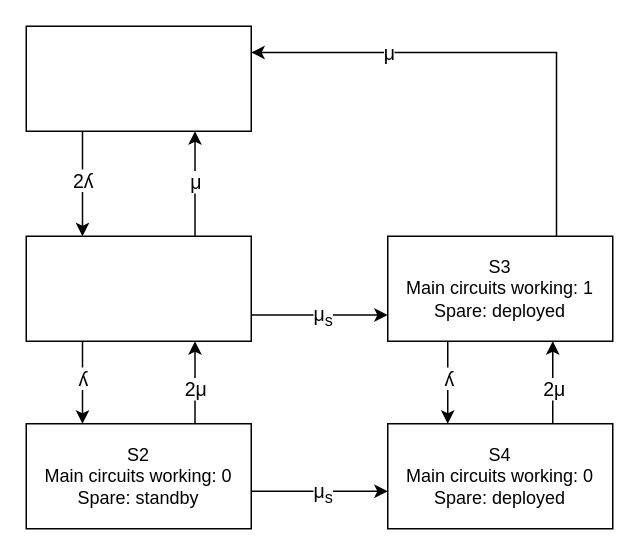
The diagram is 639 pixels wide and 555 high, and some of its shapes have lost their labels. Each missing label, with the centre of its shape:
"S0 Main circuits working: 2 Spare: standby" goes at (138,78).
"S1 Main circuits working: 1 Spare: standby" goes at (138,288).
